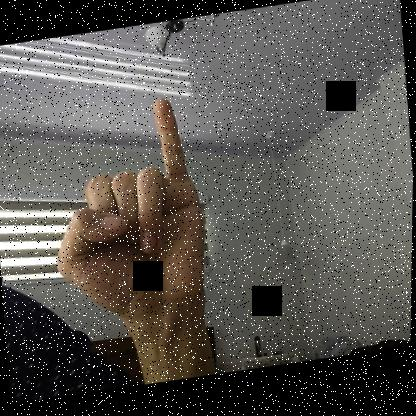I: (43, 93, 214, 323)
